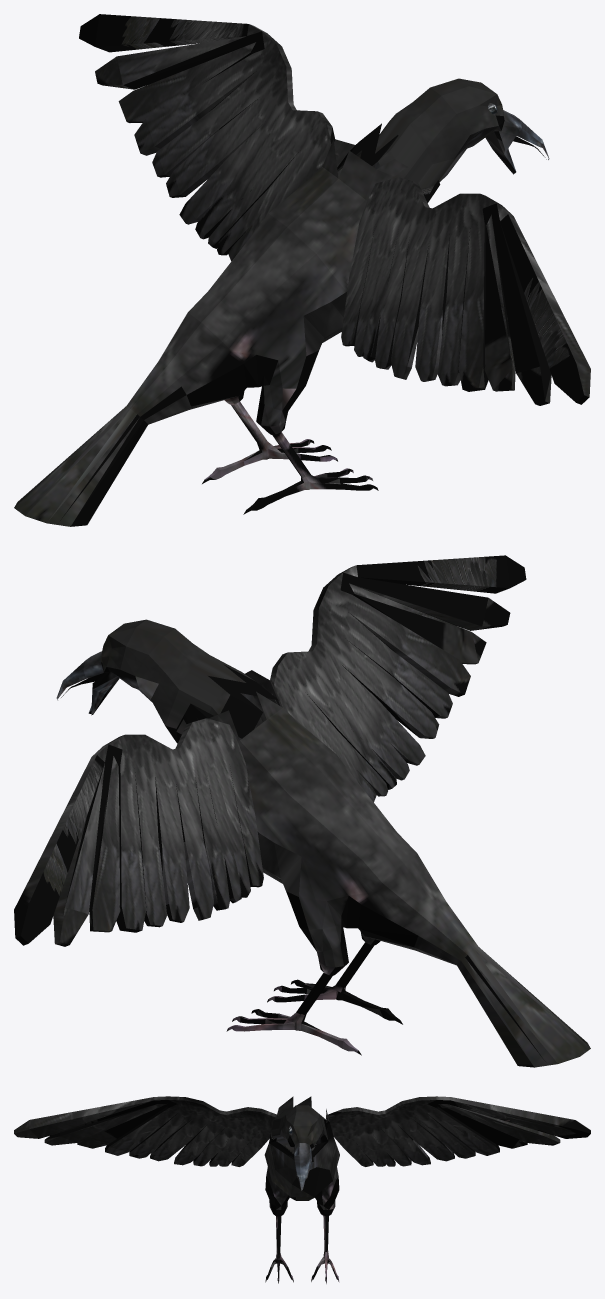
File: CrowBent0_000006.obj
3 renders of one model, top to bottom at view 1: azimuth 30°, elevation 25°; view 2: azimuth 150°, elevation 25°; view 3: azimuth 270°, elevation 25°, orthographic. The views are drawn at different scales.
Parts seen in each view (by area): view 1: Cylinder.009, Cylinder.003, Cylinder.002, Cylinder.001; view 2: Cylinder.009, Cylinder.002, Cylinder.003, Cylinder.001; view 3: Cylinder.002, Cylinder.003, Cylinder.009, Cylinder.001.
Part boxes in pixels (bbox=[...]): Cylinder.009: bbox=[14, 139, 407, 526]; Cylinder.003: bbox=[341, 177, 590, 405]; Cylinder.002: bbox=[79, 14, 338, 261]; Cylinder.001: bbox=[337, 78, 549, 202]; Cylinder.009: bbox=[192, 670, 590, 1067]; Cylinder.002: bbox=[14, 718, 263, 946]; Cylinder.003: bbox=[268, 555, 526, 802]; Cylinder.001: bbox=[56, 619, 278, 743]; Cylinder.002: bbox=[326, 1096, 590, 1166]; Cylinder.003: bbox=[14, 1096, 278, 1166]; Cylinder.009: bbox=[264, 1096, 339, 1283]; Cylinder.001: bbox=[269, 1105, 329, 1191].
Bounding box in the file's own units: 5.66 × 3.66 × 9.33.
Materials: 4 (4 with a texture image).
